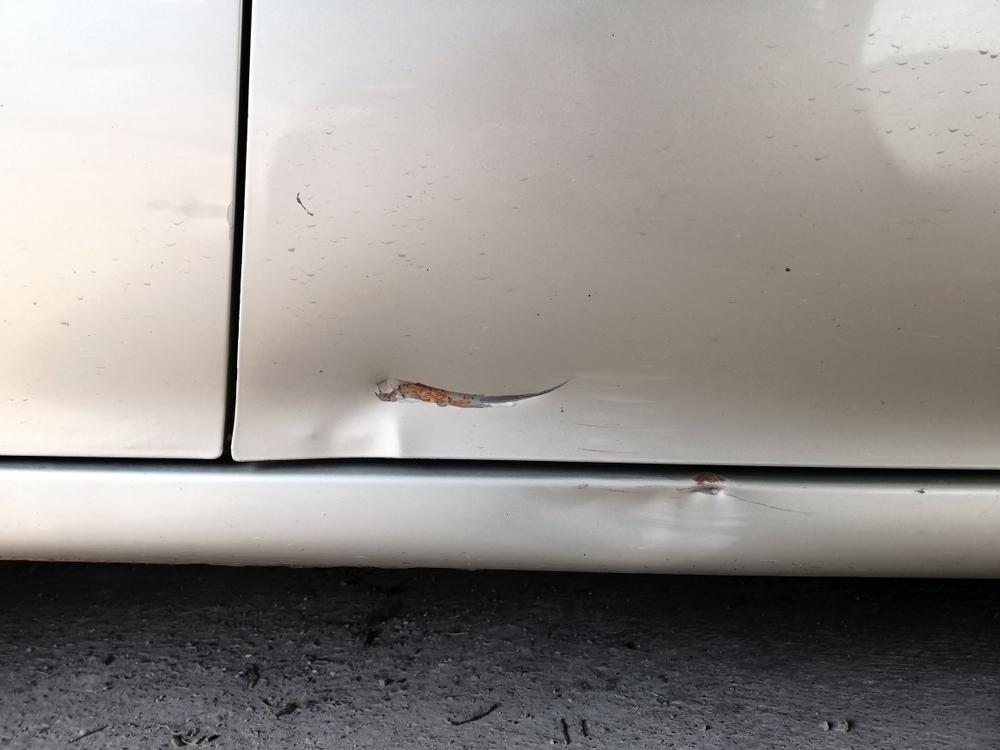dent: (250, 387, 900, 465), (496, 480, 744, 567)
scratch: (371, 376, 574, 406)
